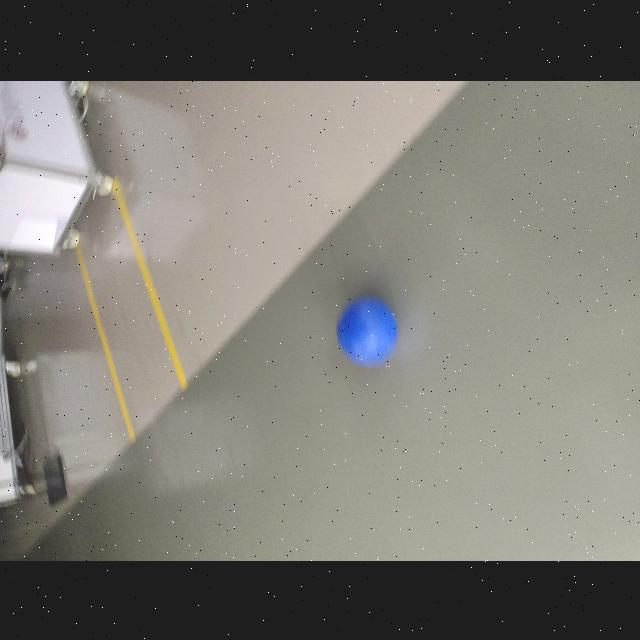B: (336, 298, 400, 366)
